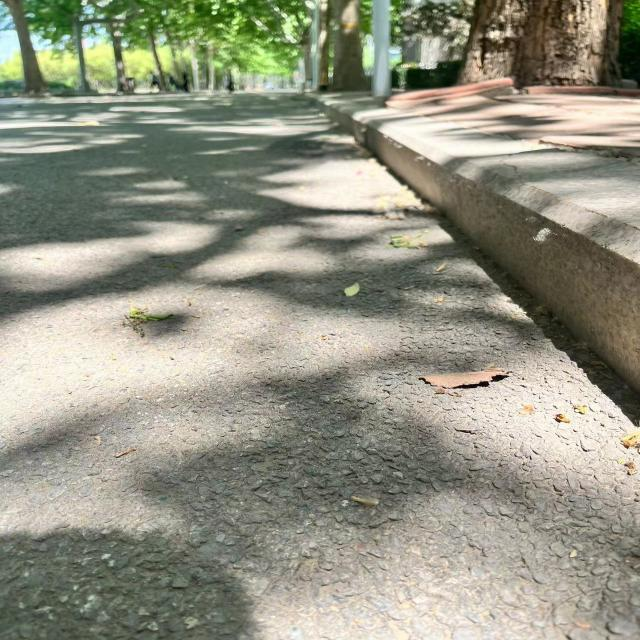curb: (313, 92, 640, 412)
